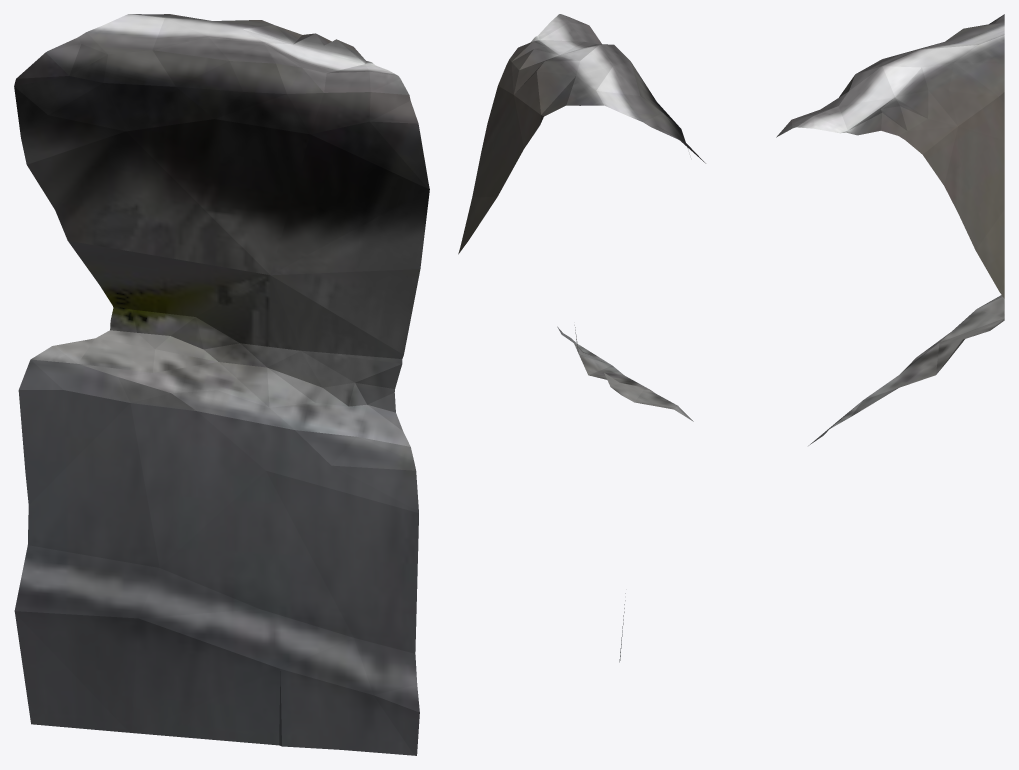
The picture shows the model from 3 angles, left to right: view 1: azimuth 30°, elevation 25°; view 2: azimuth 150°, elevation 25°; view 3: azimuth 270°, elevation 25°; orthographic projection. The views are drawn at different scales.
Size of the model in its own units: 0.2873 by 0.6892 by 0.2575.
1 material, 1 textured.
